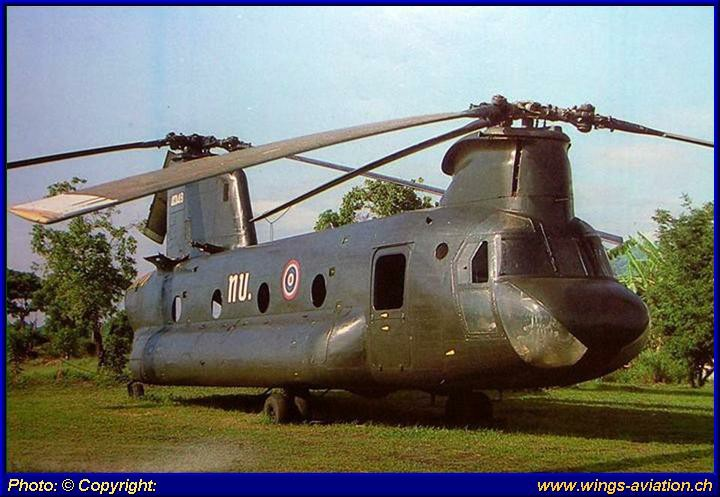chinook: (47, 86, 668, 418)
